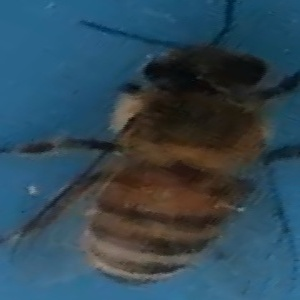bee: (13, 1, 297, 286)
